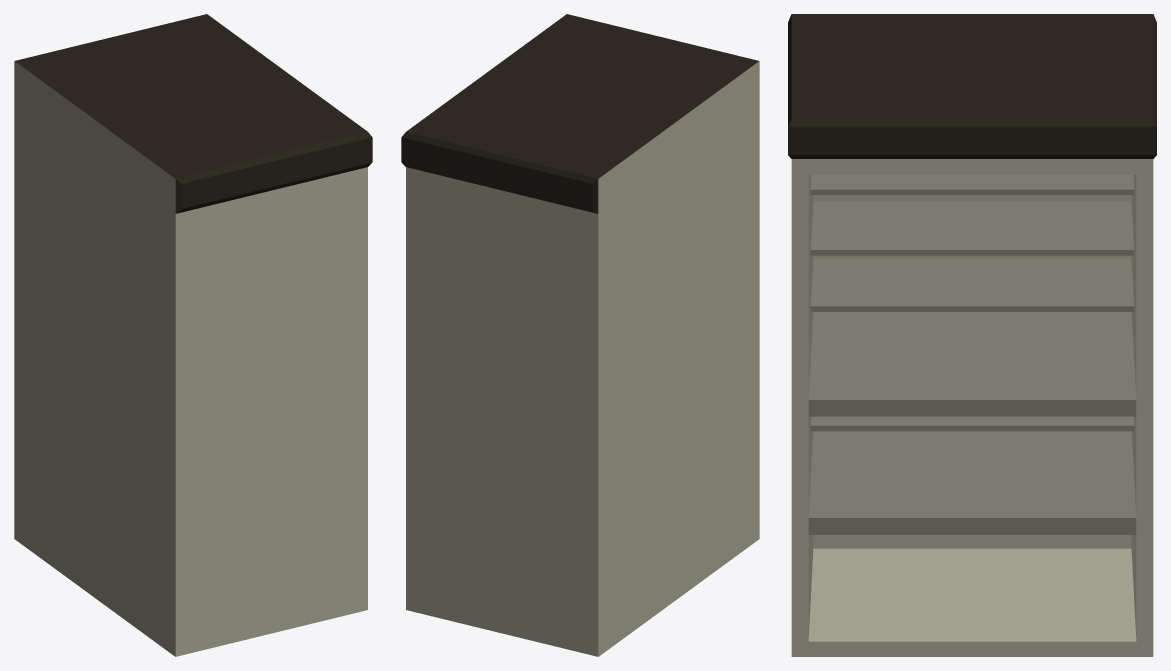
File: PantryBaseV2.fbx
3 views of the same model, side by side, from view 1: azimuth 30°, elevation 25°; view 2: azimuth 150°, elevation 25°; view 3: azimuth 270°, elevation 25° (orthographic). The views are drawn at different scales.
Visible parts, largest first — view 1: Box; view 2: Box; view 3: Box.
Part boxes in pixels (<box>): Box: <box>14,14,372,656</box>; Box: <box>401,14,759,656</box>; Box: <box>788,14,1156,656</box>.
Size of the model in its own units: 1566 by 1077 by 2518.
